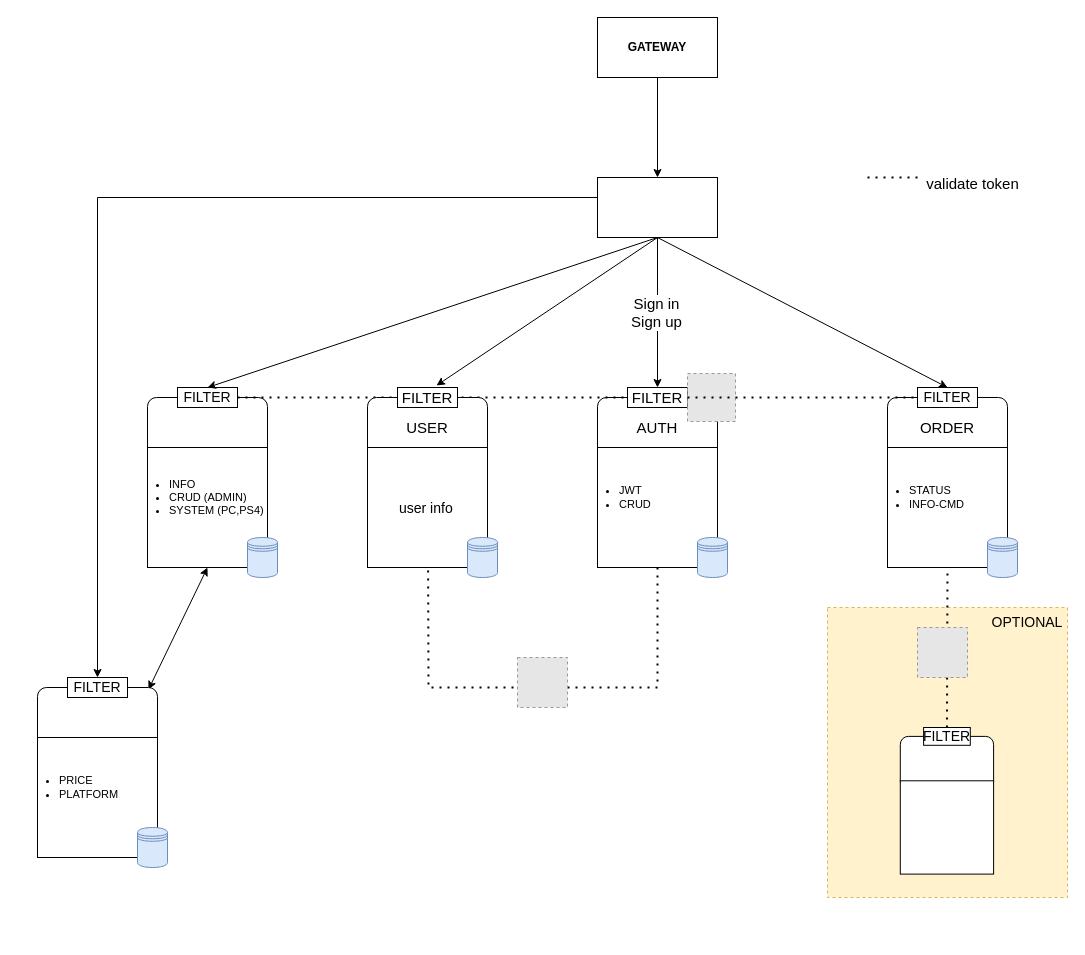
Some shapes in this 1085 by 955 pixel diagram are drawn without their labels. Grey dashed boxes stand in for pictures. The box of each missing label's shape, as (x1, y1, x2, y2) in pixels:
GAME: (146, 396, 268, 458)
INVOICE: (899, 735, 994, 790)
LOAD BALANCER: (596, 176, 718, 238)
Mail twilio: (899, 780, 994, 874)
MARKET: (36, 686, 158, 748)
